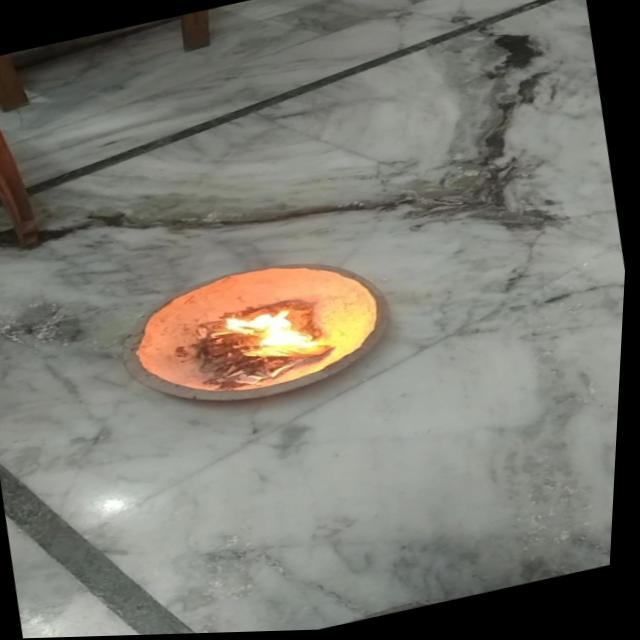fire: (216, 293, 329, 378)
